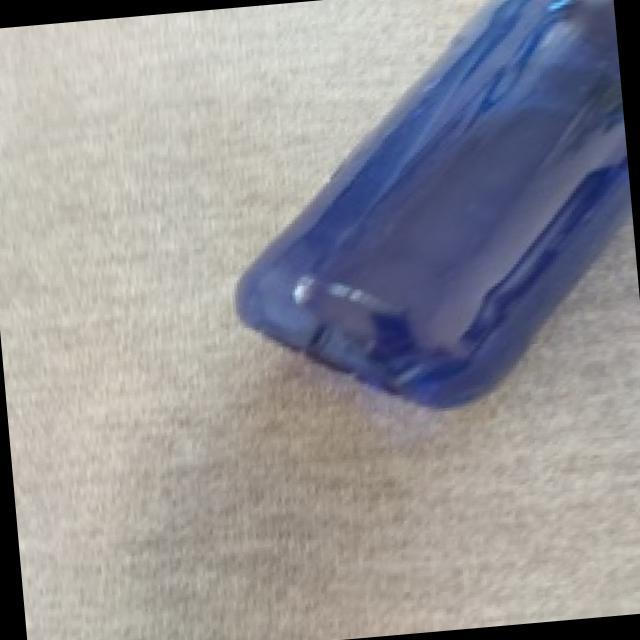good: (207, 0, 640, 449)
